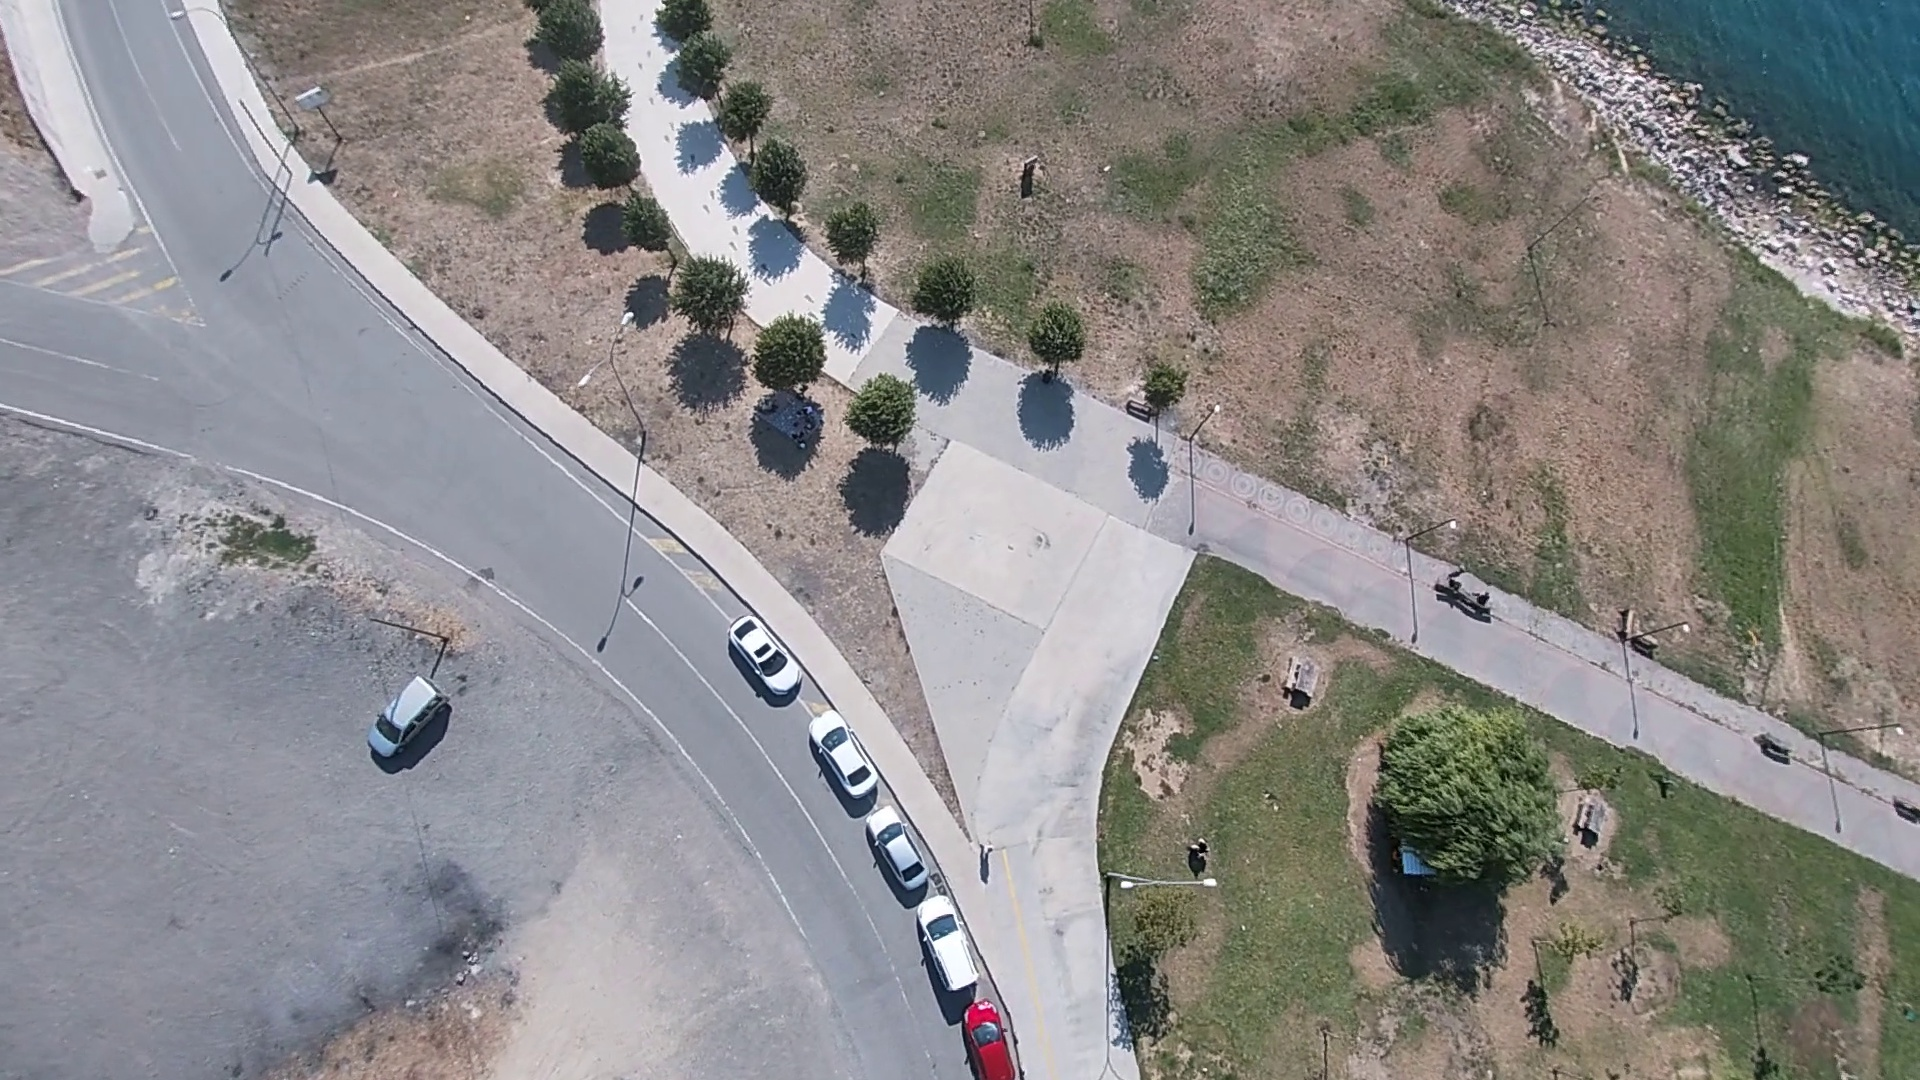arac: (800, 703, 882, 806), (910, 891, 981, 1006), (363, 676, 450, 764), (727, 611, 802, 705), (953, 993, 1021, 1080), (866, 806, 928, 891)
